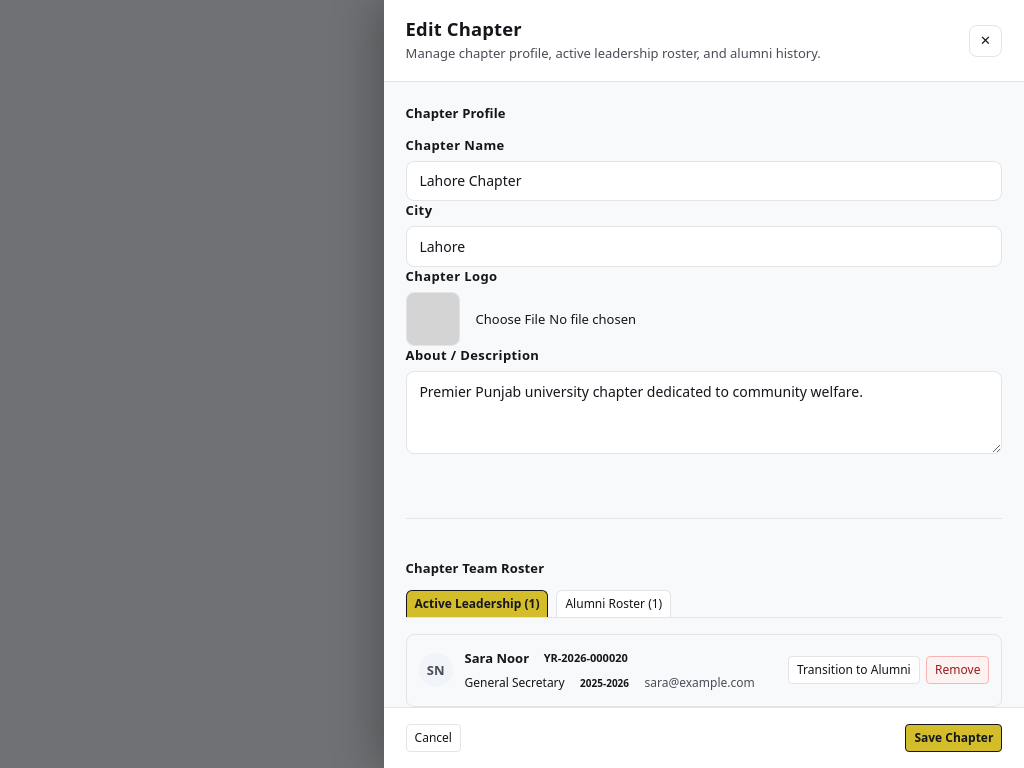
Test: EditChapterDrawer › transitions active member to alumni and vice-versa, and supports removal
Expected: the text "Sara Noor" is shown, 465,649 -> 529,668
Transition Sara Noor to Alumni
Click the button "Transition to Alumni" at (854, 670), box 788,656 -> 920,684
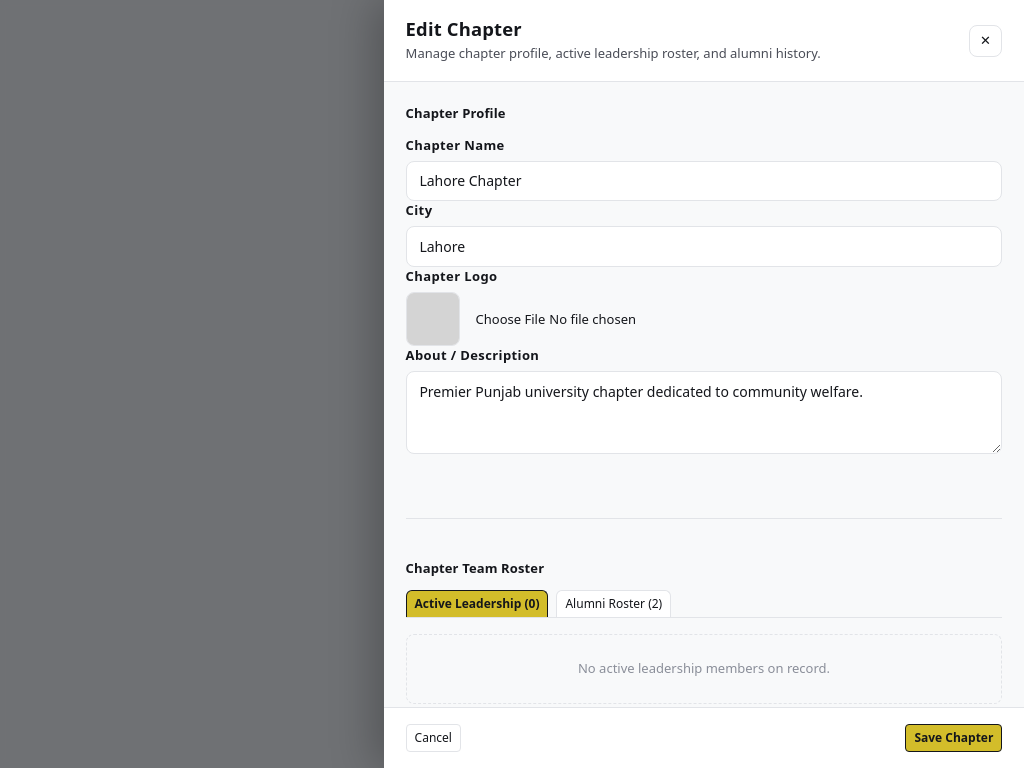
Result: the text "Sara Noor" is gone
Result: the text "No active leadership members on record." is shown at 406,634 -> 1002,704
Switch to Alumni tab - Sara Noor and Ali Ahmed are both there
Click the tab "Alumni Roster (2)" at (614, 604), box 556,590 -> 671,617
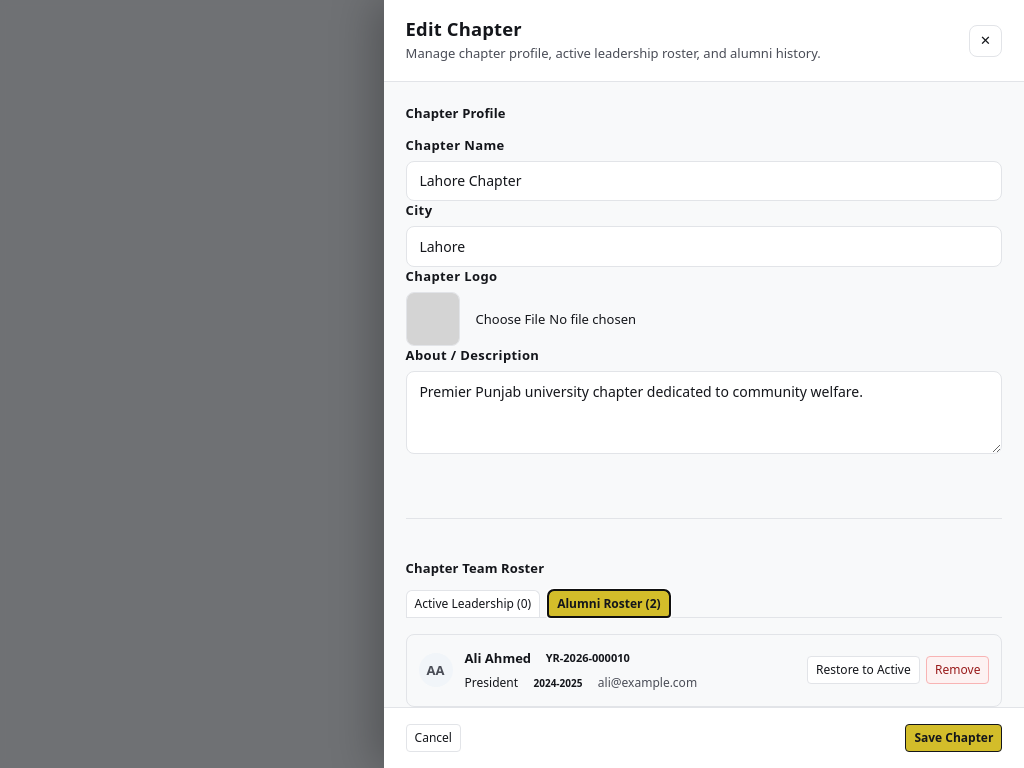
Result: the text "Ali Ahmed" is shown at 465,649 -> 531,668
Restore Ali Ahmed to Active
Click the button "Restore to Active" at (863, 670), box 807,656 -> 920,684
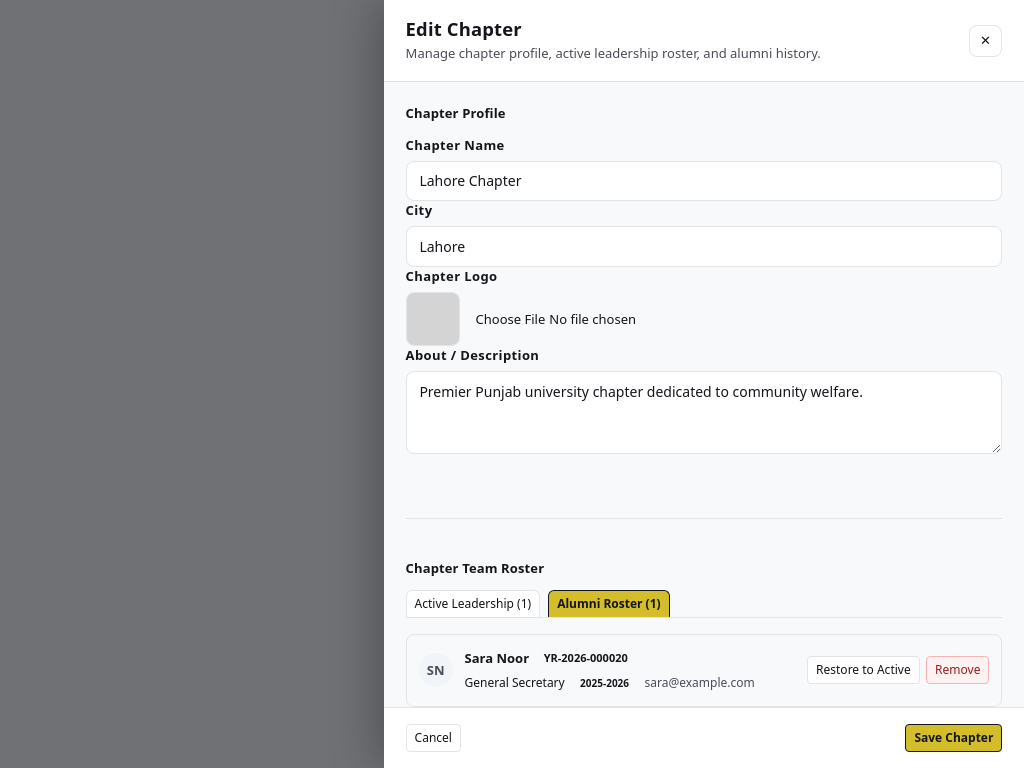
Switch back to Active tab - Ali Ahmed should be active
Click the tab "Active Leadership (1)" at (473, 604), box 406,590 -> 540,617
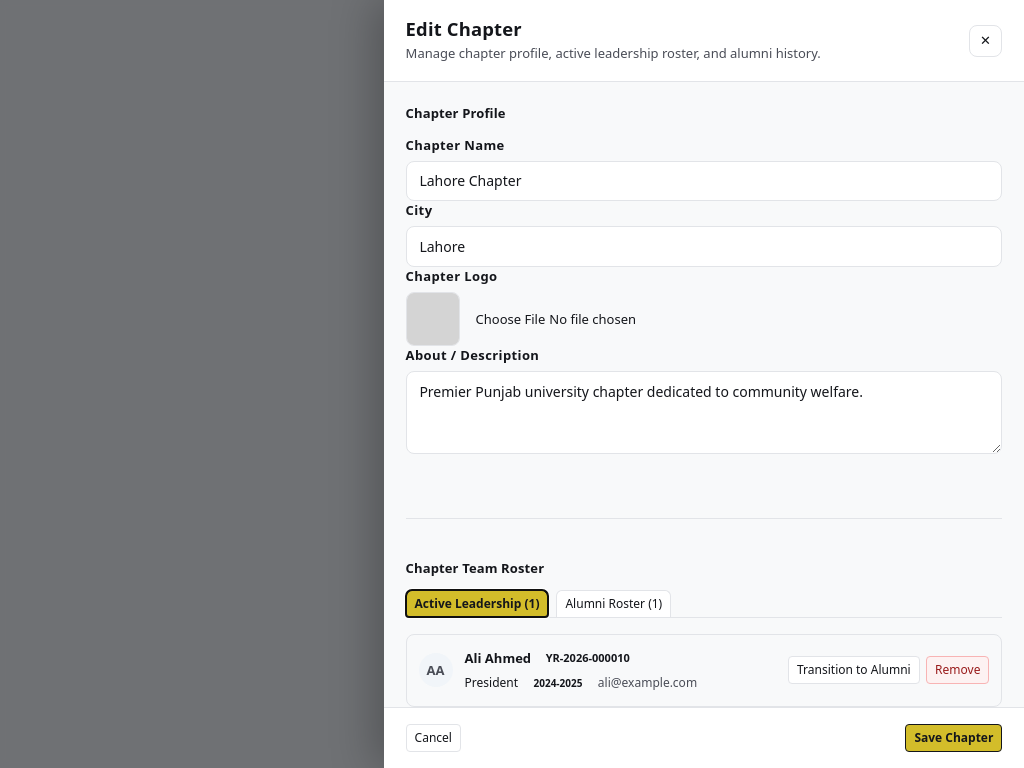
Result: the text "Ali Ahmed" is shown at 465,649 -> 531,668
Remove Ali Ahmed
Click the button "Remove" at (958, 670), box 926,656 -> 989,684
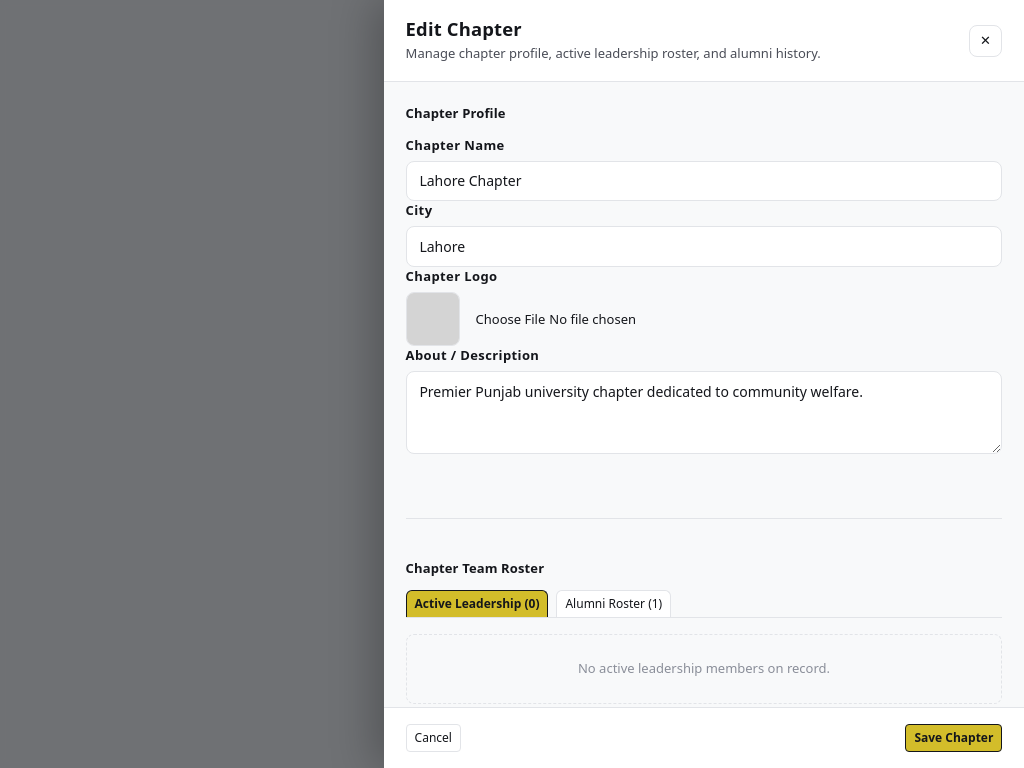
Result: the text "Ali Ahmed" is gone
